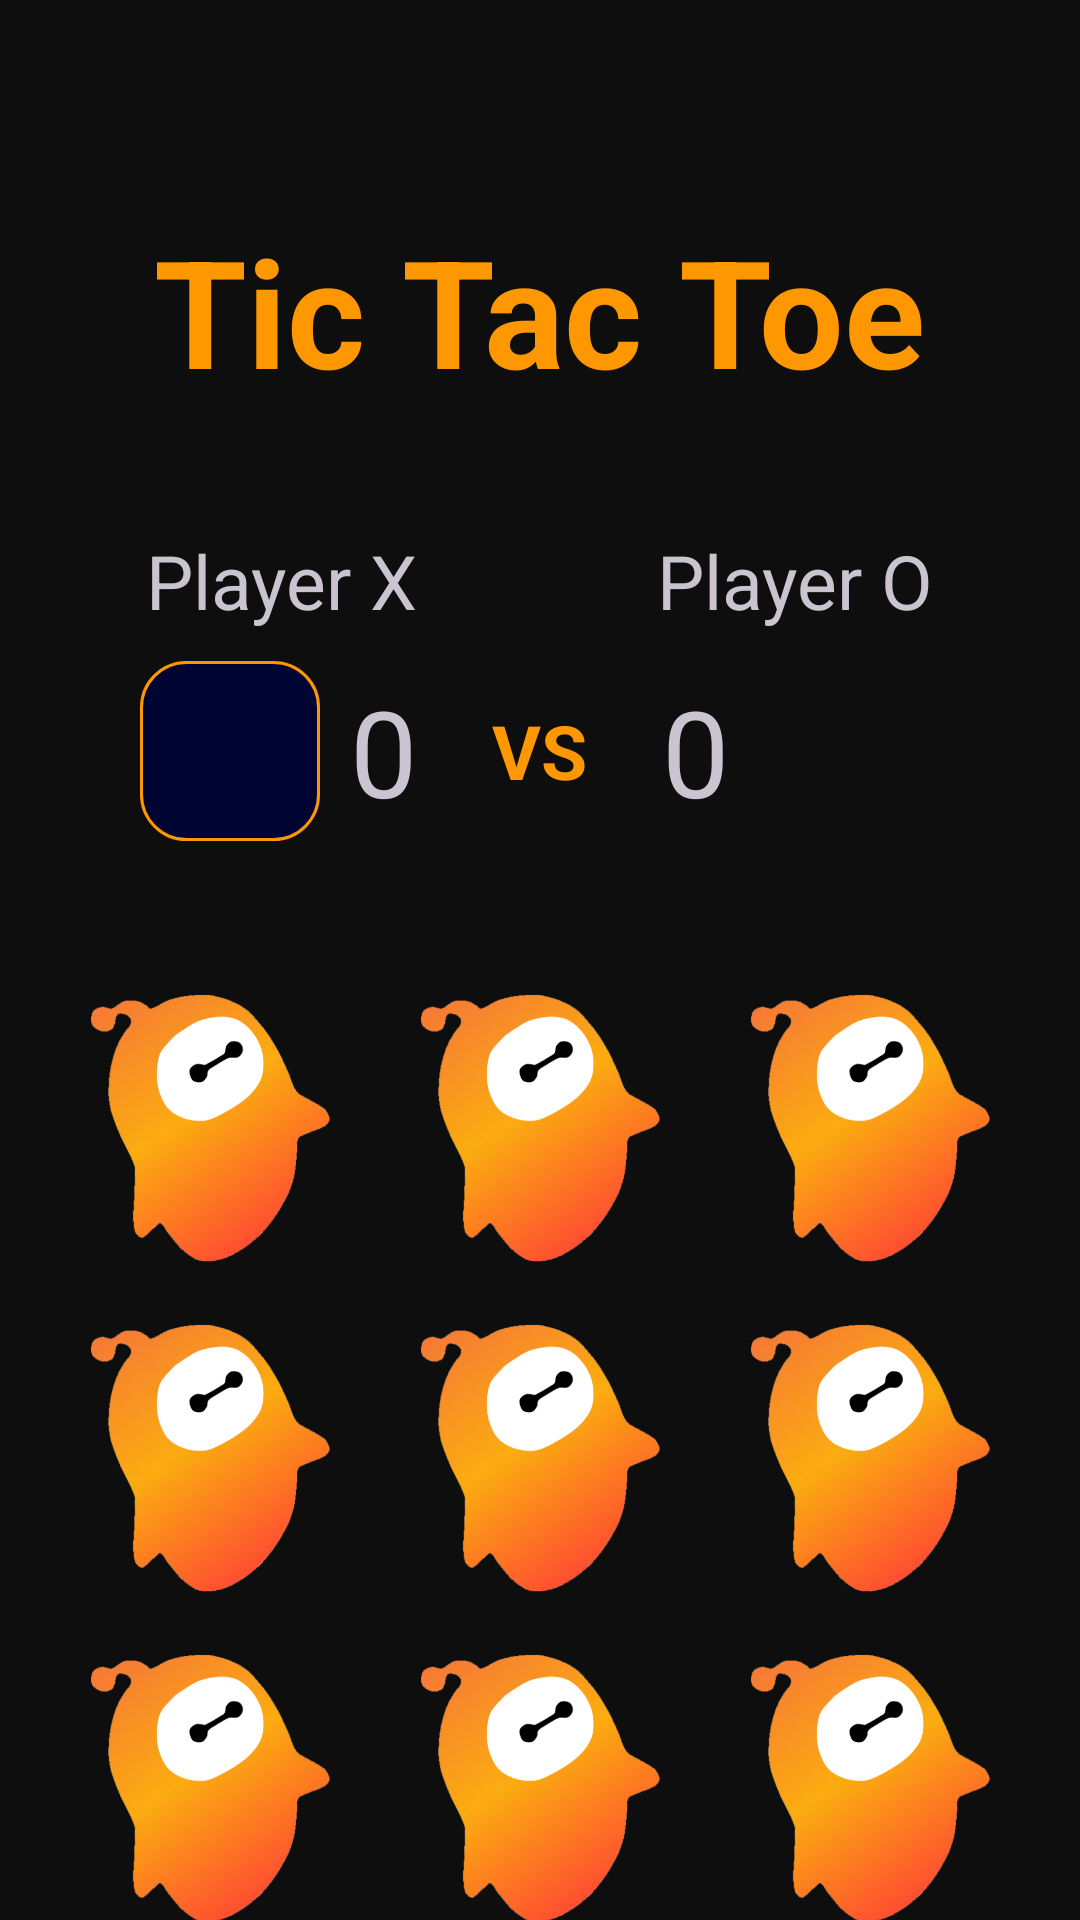

Icon bounding boxes for this 1080w x 1920h phone screenshot, format box(x1, y1, x2, y2):
Imagen 1: box(91, 995, 330, 1262)
Imagen 2: box(421, 995, 660, 1262)
Imagen 3: box(751, 995, 990, 1262)
Imagen 4: box(91, 1325, 330, 1592)
Imagen 5: box(421, 1325, 660, 1592)
Imagen 6: box(751, 1325, 990, 1592)
Imagen 7: box(91, 1655, 330, 1920)
Imagen 8: box(421, 1655, 660, 1920)
Imagen 9: box(751, 1655, 990, 1920)
